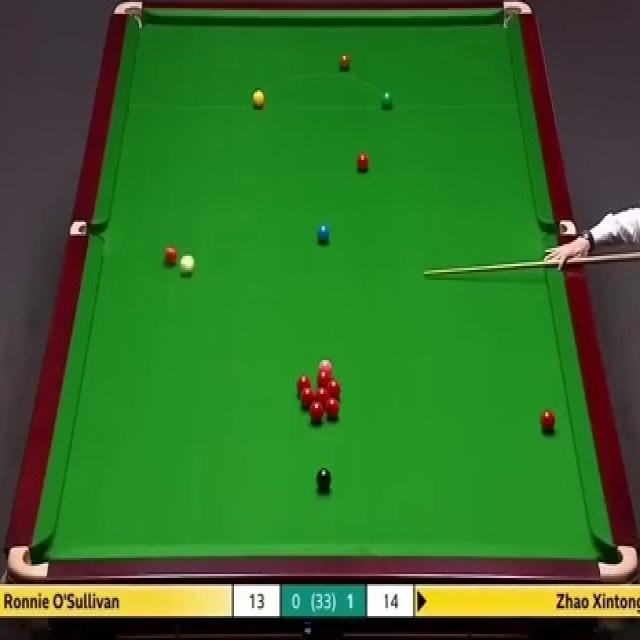black-ball: (316, 466, 333, 491)
blue-ball: (317, 224, 330, 243)
brown-ball: (338, 53, 350, 71)
green-ball: (380, 89, 393, 110)
pink-ball: (318, 358, 332, 373)
red-ball: (540, 409, 555, 432), (317, 384, 332, 406), (325, 398, 339, 419), (164, 245, 178, 266), (310, 399, 324, 419), (356, 153, 369, 174), (298, 376, 310, 394), (330, 379, 340, 398), (302, 388, 316, 400), (317, 375, 330, 386)
white-ball: (181, 256, 194, 276)
yellow-ball: (252, 90, 264, 108)
